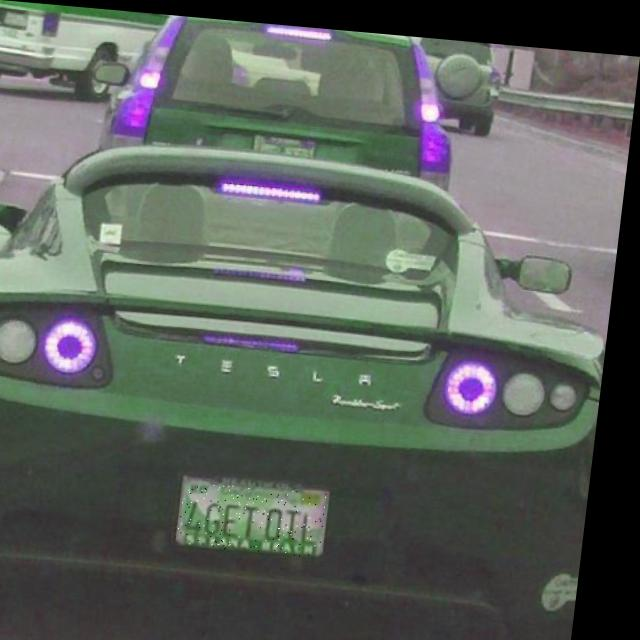license_plate: (188, 476, 338, 551)
